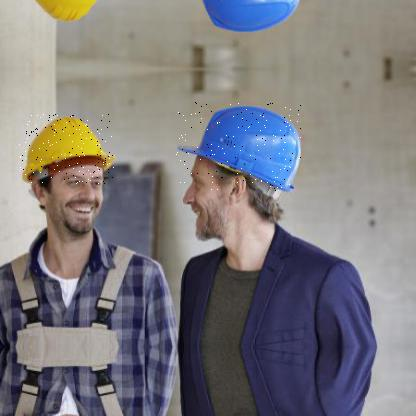safetyhelmet: (176, 102, 303, 192), (19, 114, 117, 186)
